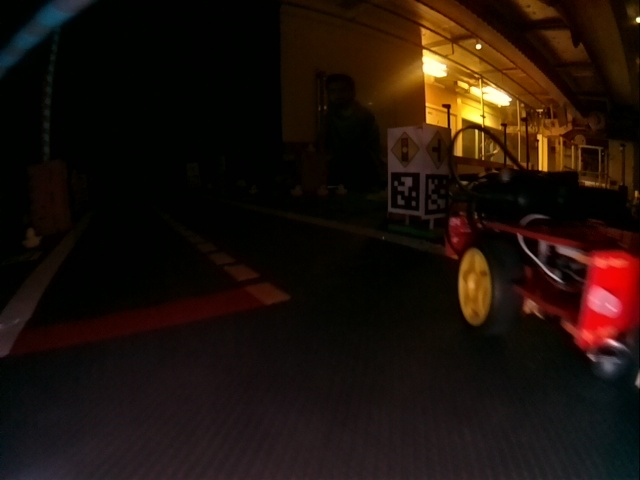Duckie: (24, 228, 41, 248)
Duckiebot: (447, 168, 637, 377)
Intersection sign: (425, 130, 449, 170)
QR code: (390, 171, 420, 213), (426, 173, 449, 216)
Signal sign: (391, 131, 420, 167)
